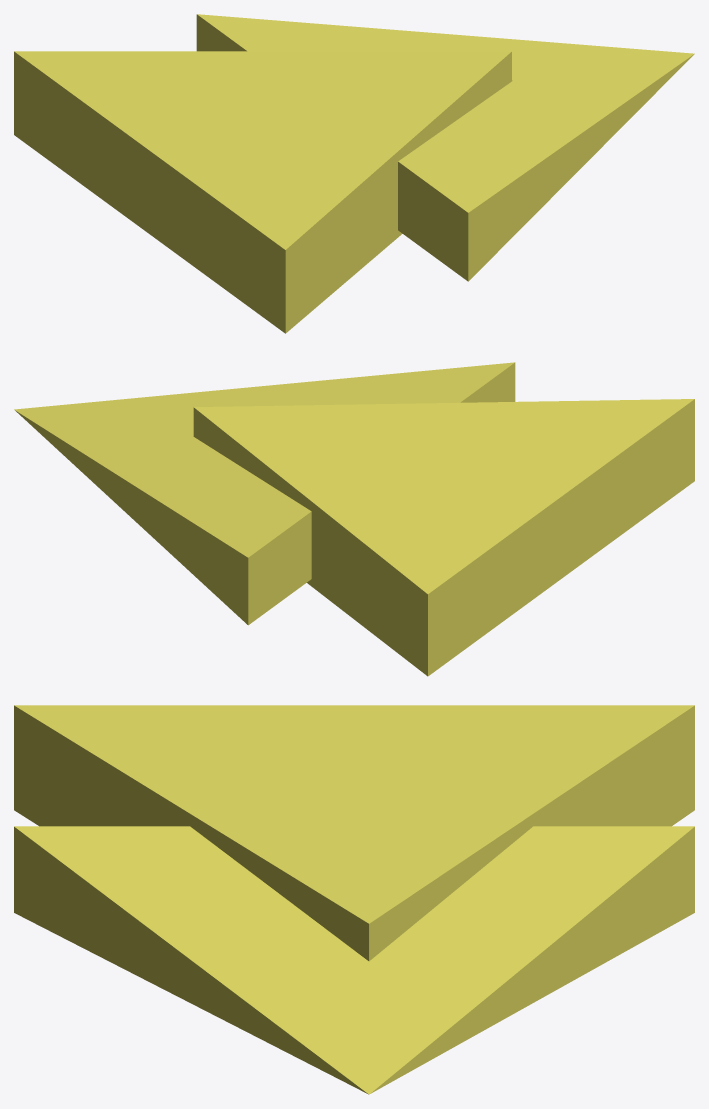
File: arrow.glb
The picture shows the model from 3 angles, top to bottom: view 1: azimuth 30°, elevation 25°; view 2: azimuth 150°, elevation 25°; view 3: azimuth 270°, elevation 25°; orthographic projection. The views are drawn at different scales.
Visible parts, largest first — view 1: Cube.012, Cube.013; view 2: Cube.012, Cube.013; view 3: Cube.012, Cube.013.
Boxes of the visible parts, bbox=[...] form: Cube.012: bbox=[14, 51, 512, 333]; Cube.013: bbox=[196, 14, 694, 281]; Cube.012: bbox=[193, 399, 694, 676]; Cube.013: bbox=[14, 362, 515, 625]; Cube.012: bbox=[14, 705, 694, 961]; Cube.013: bbox=[14, 826, 694, 1094].
Size of the model in its own units: 2.21 by 0.3432 by 1.88.
